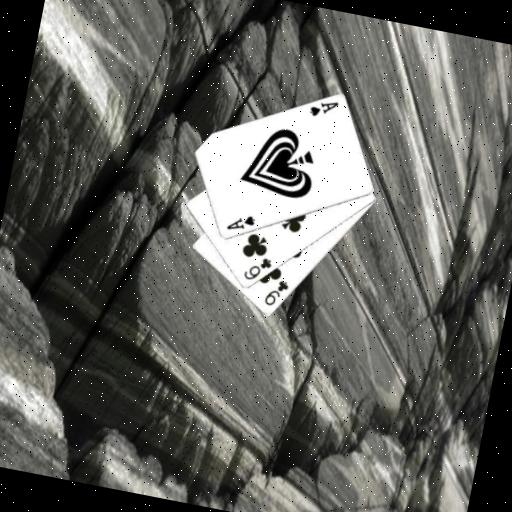6C: (240, 251, 275, 285)
9C: (261, 275, 292, 311)
AS: (306, 94, 341, 123), (223, 209, 258, 237)
